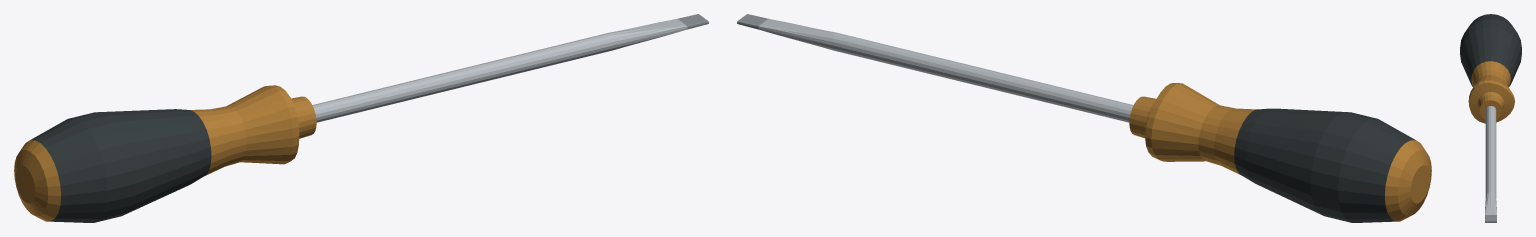
The picture shows the model from 3 angles, left to right: view 1: azimuth 30°, elevation 25°; view 2: azimuth 150°, elevation 25°; view 3: azimuth 270°, elevation 25°; orthographic projection. The views are drawn at different scales.
Parts seen in each view (by area): view 1: Substantial_polymer_grip_with_true_blind_bore, Continuous_round_steel_shaft_and_finite_slotted_tip; view 2: Substantial_polymer_grip_with_true_blind_bore, Continuous_round_steel_shaft_and_finite_slotted_tip; view 3: Substantial_polymer_grip_with_true_blind_bore, Continuous_round_steel_shaft_and_finite_slotted_tip.
Part boxes in pixels (<box>): Substantial_polymer_grip_with_true_blind_bore: <box>14,85,316,222</box>; Continuous_round_steel_shaft_and_finite_slotted_tip: <box>312,14,708,122</box>; Substantial_polymer_grip_with_true_blind_bore: <box>1129,83,1431,222</box>; Continuous_round_steel_shaft_and_finite_slotted_tip: <box>737,14,1133,122</box>; Substantial_polymer_grip_with_true_blind_bore: <box>1460,14,1521,123</box>; Continuous_round_steel_shaft_and_finite_slotted_tip: <box>1485,106,1496,222</box>.
Bounding box in the file's own units: 0.299 × 0.041 × 0.041.
